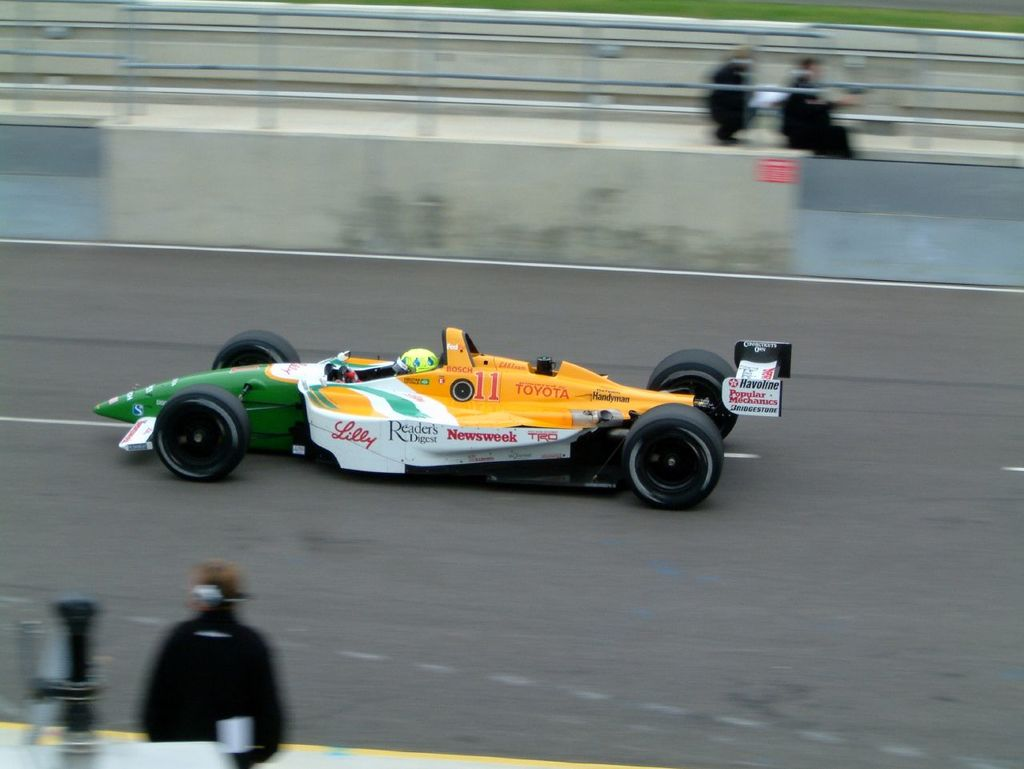Car: (92, 324, 792, 512)
